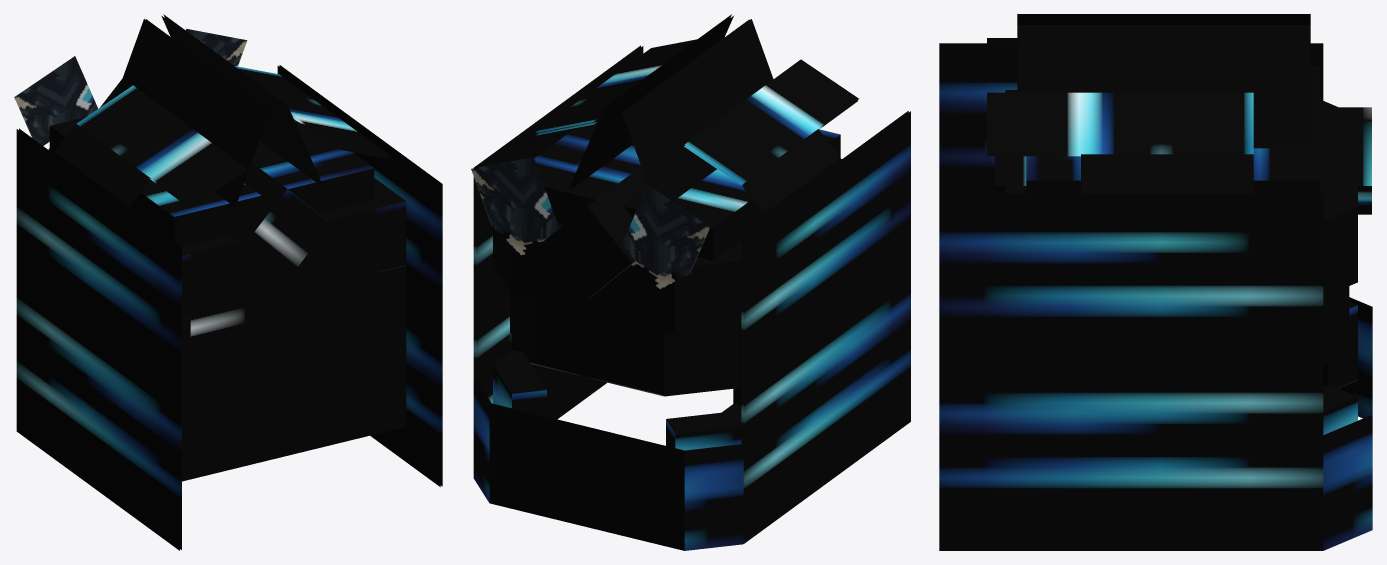
File: helmet.obj
The picture shows the model from 3 angles, left to right: view 1: azimuth 30°, elevation 25°; view 2: azimuth 150°, elevation 25°; view 3: azimuth 270°, elevation 25°; orthographic projection. The views are drawn at different scales.
Visible parts, largest first — view 1: cube; view 2: cube; view 3: cube.
Boxes of the visible parts, box(x1,y1,x2,y2) form: cube: box(14, 14, 442, 550); cube: box(471, 14, 910, 550); cube: box(939, 14, 1372, 550).
Bounding box in the file's own units: 0.3735 × 0.5256 × 0.453.
